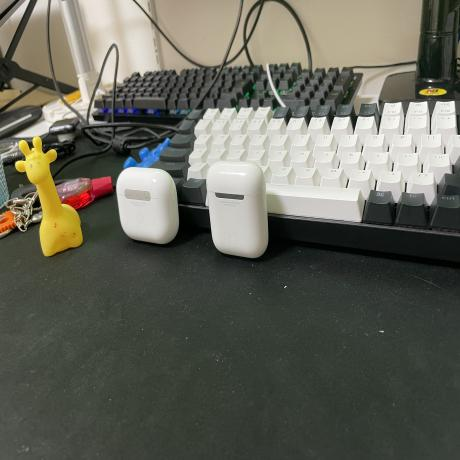airpod2: (205, 155, 278, 262)
airpod3: (114, 160, 182, 246)
